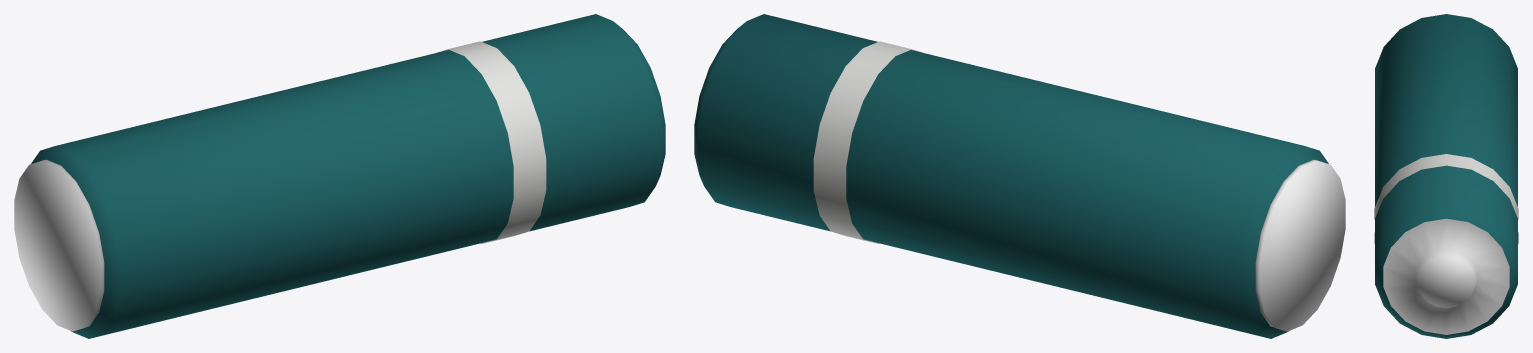
Rendered from ix_battery.gltf.
The picture shows the model from 3 angles, left to right: view 1: azimuth 30°, elevation 25°; view 2: azimuth 150°, elevation 25°; view 3: azimuth 270°, elevation 25°; orthographic projection. The views are drawn at different scales.
Visible parts, largest first — view 1: IX_Battery_Wrap, IX_Battery_Base, IX_Battery_Band; view 2: IX_Battery_Wrap, IX_Battery_Base, IX_Battery_Band; view 3: IX_Battery_Wrap, IX_Battery_Cap, IX_Battery_Band.
Boxes of the visible parts, x1,y1,x2,y2 form: IX_Battery_Wrap: (31, 14, 665, 338); IX_Battery_Base: (14, 159, 104, 331); IX_Battery_Band: (436, 41, 546, 243); IX_Battery_Wrap: (694, 14, 1328, 338); IX_Battery_Base: (1255, 159, 1345, 331); IX_Battery_Band: (813, 41, 923, 243); IX_Battery_Wrap: (1375, 14, 1517, 338); IX_Battery_Cap: (1383, 218, 1509, 334); IX_Battery_Band: (1374, 154, 1518, 243).
Bounding box in the file's own units: 0.0712 × 0.0212 × 0.0209.
